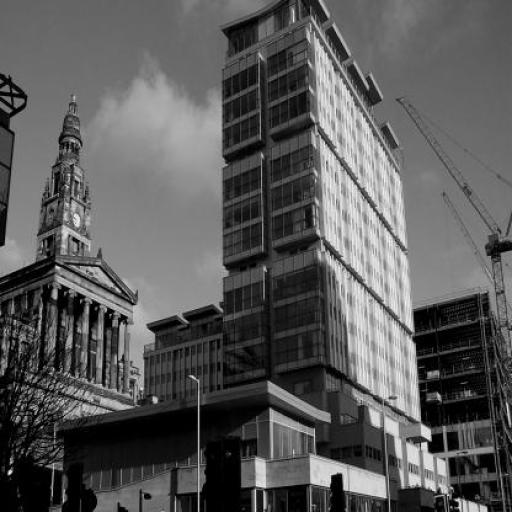street light: (39, 369, 59, 512), (188, 373, 202, 511), (382, 394, 398, 511)
